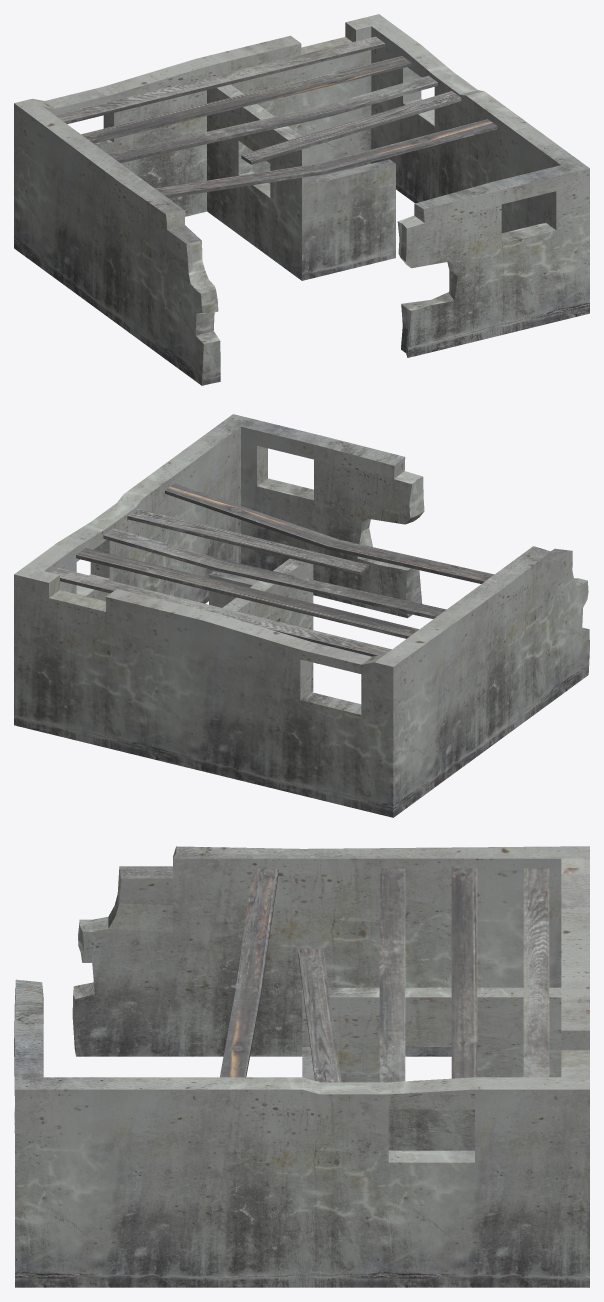
Rendered from house_destroyed.fbx.
3 views of the same model, one above another, from view 1: azimuth 30°, elevation 25°; view 2: azimuth 150°, elevation 25°; view 3: azimuth 270°, elevation 25° (orthographic). The views are drawn at different scales.
Parts seen in each view (by area): view 1: house, Ceiling; view 2: house, Ceiling; view 3: house, Ceiling.
Boxes of the visible parts, bbox=[...] form: house: bbox=[14, 14, 589, 385]; Ceiling: bbox=[55, 36, 497, 197]; house: bbox=[14, 414, 589, 817]; Ceiling: bbox=[52, 483, 494, 656]; house: bbox=[14, 846, 589, 1287]; Ceiling: bbox=[220, 868, 549, 1082].
Bounding box in the file's own units: 7.92 × 3.01 × 7.93.
